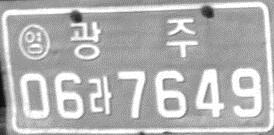0: (18, 72, 50, 120)
4: (194, 68, 224, 118)
6: (153, 69, 187, 119), (53, 71, 84, 120)
7: (116, 70, 147, 119)
9: (230, 66, 262, 119)
광주_D: (68, 17, 198, 62)
라: (86, 75, 112, 115)
영: (17, 22, 50, 61)
